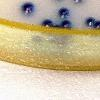Blue: (21, 2, 34, 16), (57, 6, 72, 18), (58, 19, 72, 30), (40, 18, 53, 28), (85, 16, 94, 27), (91, 18, 100, 29)
